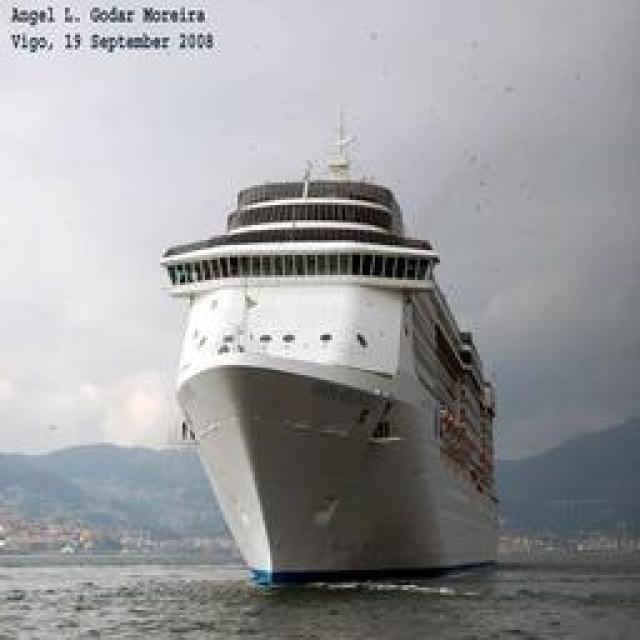ship2: (158, 110, 500, 595)
